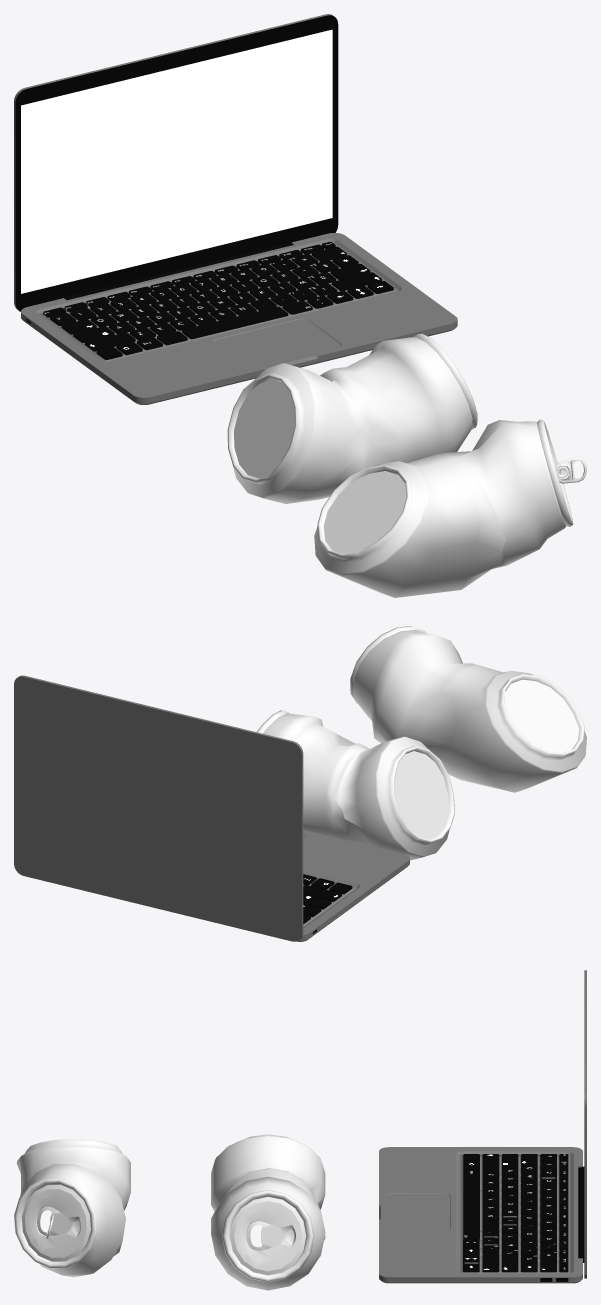
The model's file is laptop.glb.
3 renders of one model, top to bottom at view 1: azimuth 30°, elevation 25°; view 2: azimuth 150°, elevation 25°; view 3: azimuth 270°, elevation 25°, orthographic. The views are drawn at different scales.
Parts seen in each view (by area): view 1: Frame, cola_can_low002, cola_can_low001; view 2: Frame, cola_can_low002, cola_can_low001; view 3: Frame, cola_can_low001, cola_can_low002.
Boxes of the visible parts, left/top/right/bottom form: Frame: left=14, top=14, right=457, bottom=404; cola_can_low002: left=314, top=419, right=586, bottom=597; cola_can_low001: left=227, top=333, right=477, bottom=503; Frame: left=14, top=675, right=409, bottom=941; cola_can_low002: left=350, top=626, right=586, bottom=792; cola_can_low001: left=256, top=710, right=455, bottom=860; Frame: left=379, top=970, right=586, bottom=1283; cola_can_low001: left=211, top=1134, right=325, bottom=1290; cola_can_low002: left=14, top=1139, right=130, bottom=1277.
Bounding box in the file's own units: 304 × 268 × 565.
3 materials, 2 textured.
